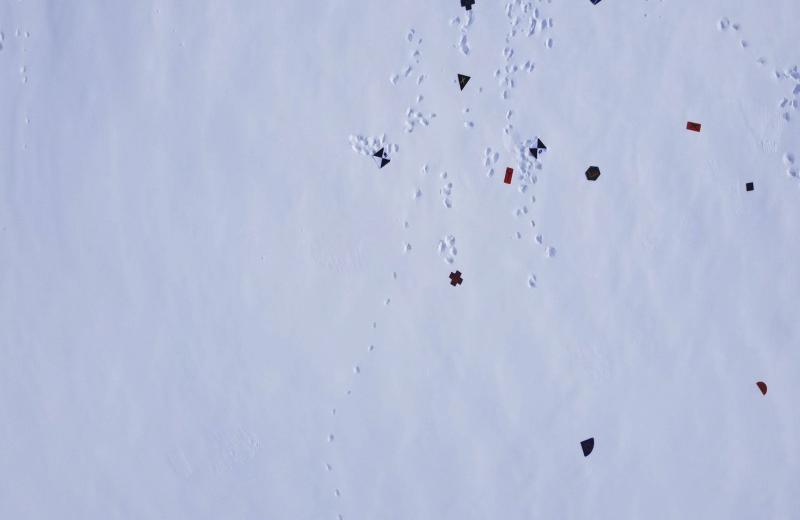Cross: (448, 269, 464, 288), (460, 0, 476, 12)
Hexagon: (584, 164, 601, 181)
Pentagon: (587, 0, 603, 6)
Quarter Circle: (578, 436, 596, 458)
Rectangle: (501, 166, 514, 185), (686, 122, 702, 132)
Semi Circle: (754, 378, 770, 397)
Square: (746, 181, 756, 192)
Triangle: (456, 71, 472, 92)
